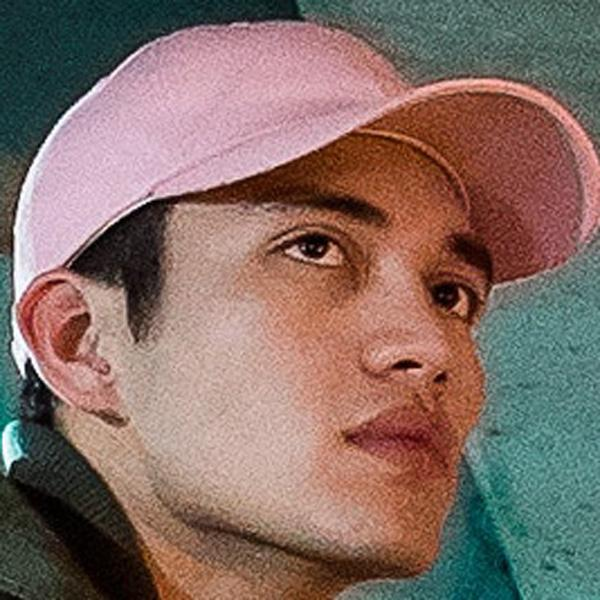Eyes: (258, 212, 358, 281), (416, 256, 480, 339)
